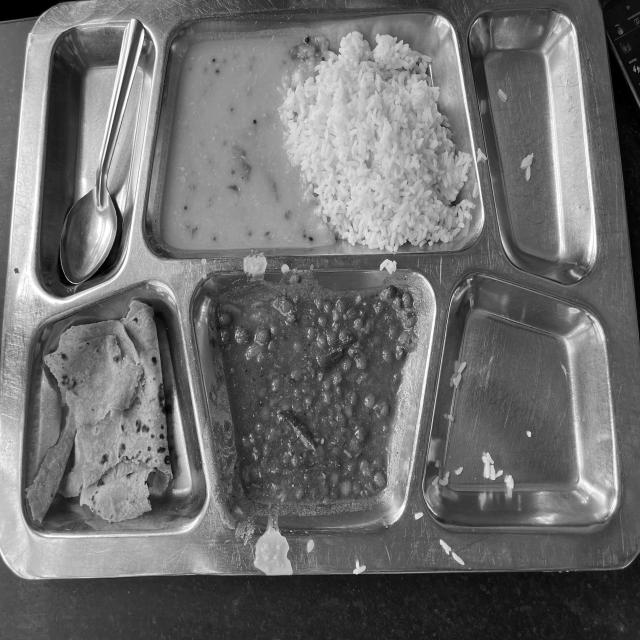70-Food-Left: (43, 18, 629, 548)
